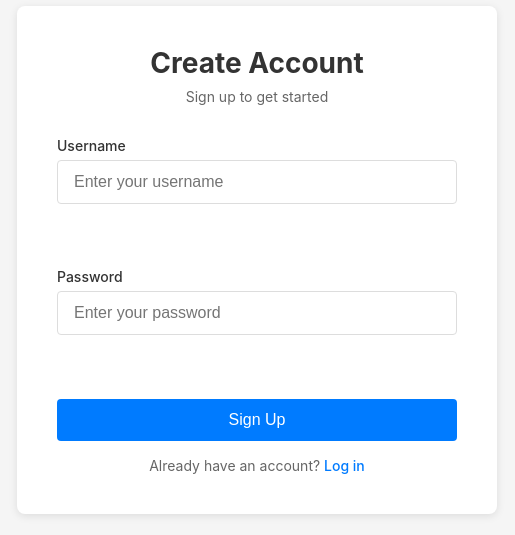
Test: Register Component › should show a validation error for a password that is too short
The width and height of the screenshot is (515, 535).
In the password field labelled "Password": (257, 313) [57, 291, 457, 335], type "12345"
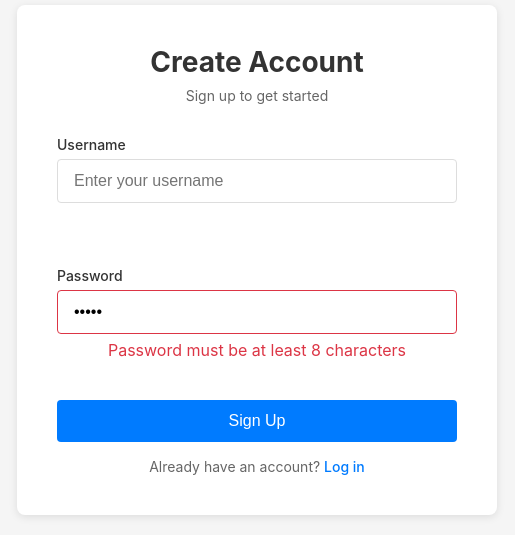
Check: the text "Password must be at least 8 characters" is shown, box [108, 340, 406, 360]
